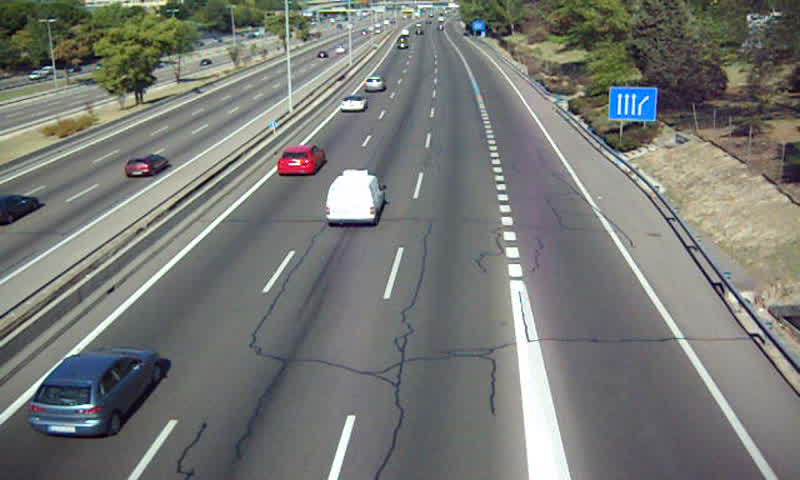car: (26, 350, 162, 439), (277, 146, 324, 176), (340, 96, 370, 112), (363, 75, 385, 92)
van: (324, 170, 387, 225)
